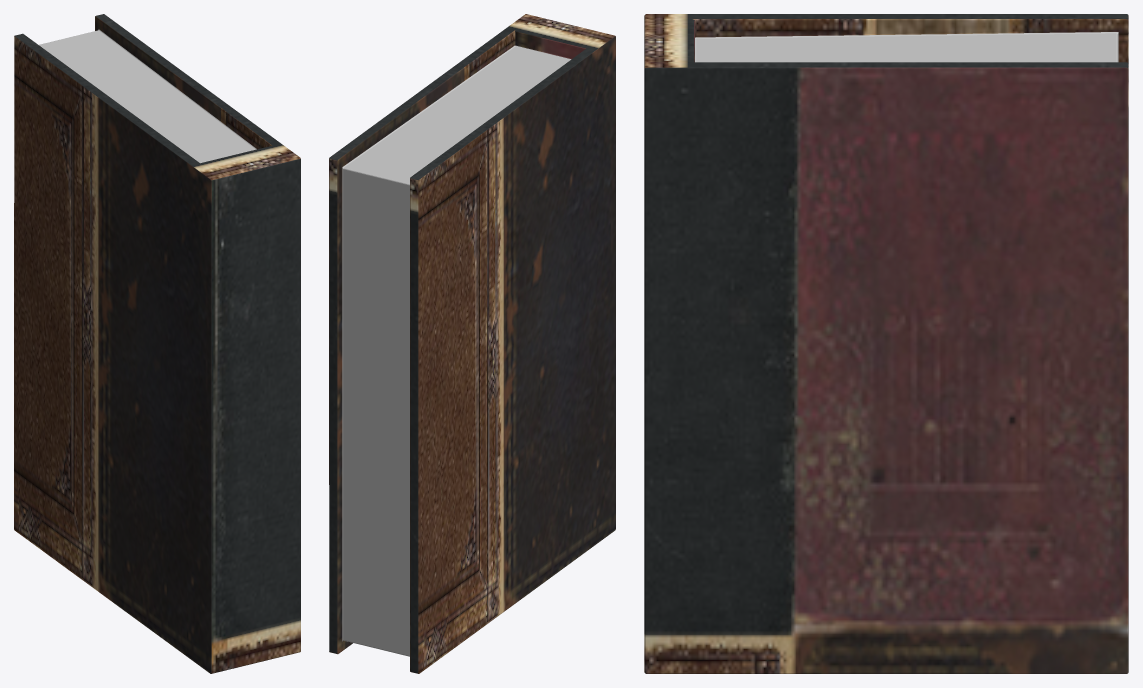
The model's file is PhoneBook(closed).fbx.
The picture shows the model from 3 angles, left to right: view 1: azimuth 30°, elevation 25°; view 2: azimuth 150°, elevation 25°; view 3: azimuth 270°, elevation 25°; orthographic projection. The views are drawn at different scales.
Parts seen in each view (by area): view 1: Cube.036; view 2: Cube.036; view 3: Cube.036.
Boxes of the visible parts, <box> form: Cube.036: <box>14,14,300,673</box>; Cube.036: <box>329,14,615,673</box>; Cube.036: <box>644,14,1128,673</box>.
Size of the model in its own units: 24.05 by 126 by 90.93.
